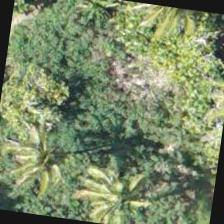Kelapa_Sawit: (0, 106, 86, 208), (63, 143, 165, 223)
